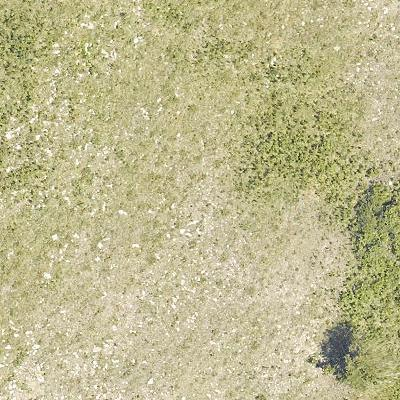tree-top: (324, 330, 392, 392)
